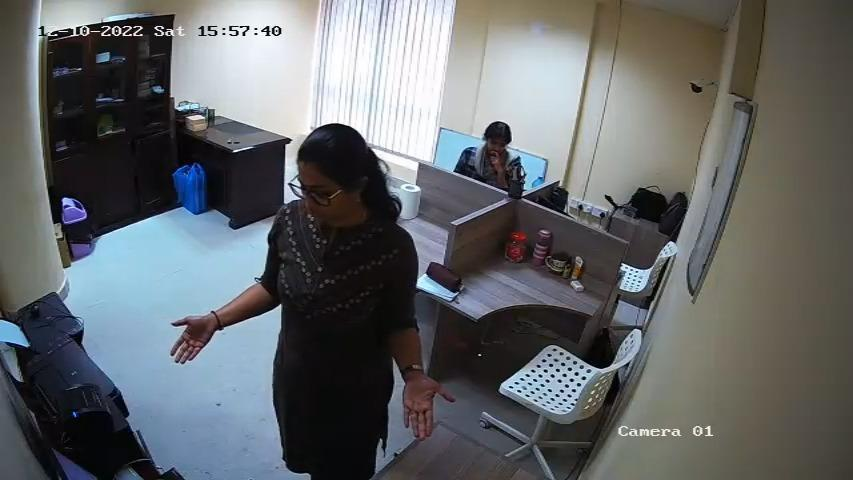no_apron: (400, 375, 454, 441), (164, 314, 215, 366), (487, 150, 507, 171)
no_gloves: (288, 120, 394, 182), (470, 118, 514, 147)
no_hairnet: (290, 188, 358, 227), (482, 141, 506, 157)
